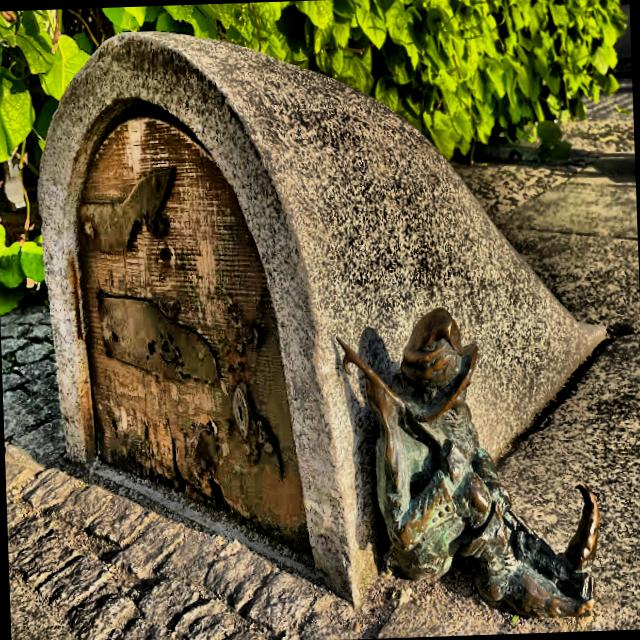Spioch: (341, 309, 596, 616)
